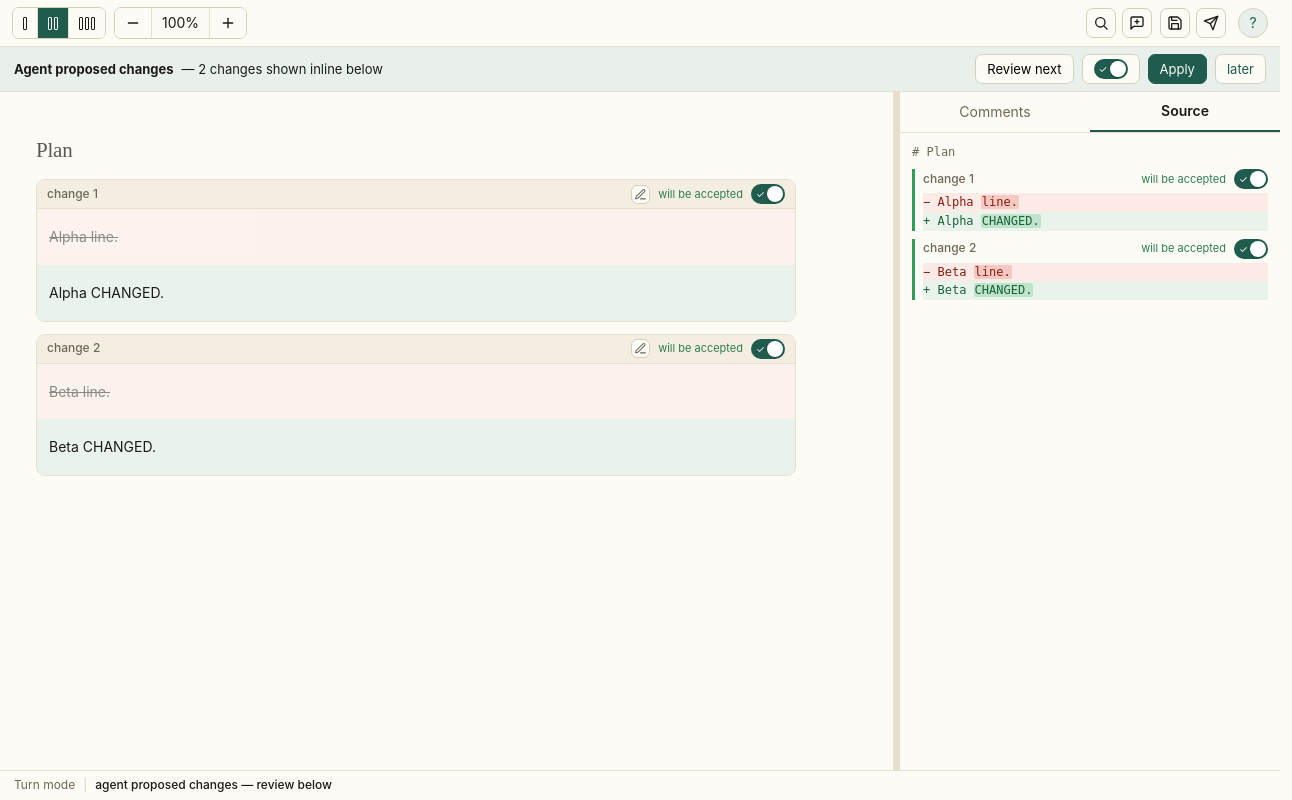
Test: App review diff controls (memory-backed) › a per-hunk reject toggle then Apply keeps only the accepted hunks
The image size is (1292, 800).
Step 1. Click the switch named "accept change 1" → [768, 194], box [751, 184, 785, 204]
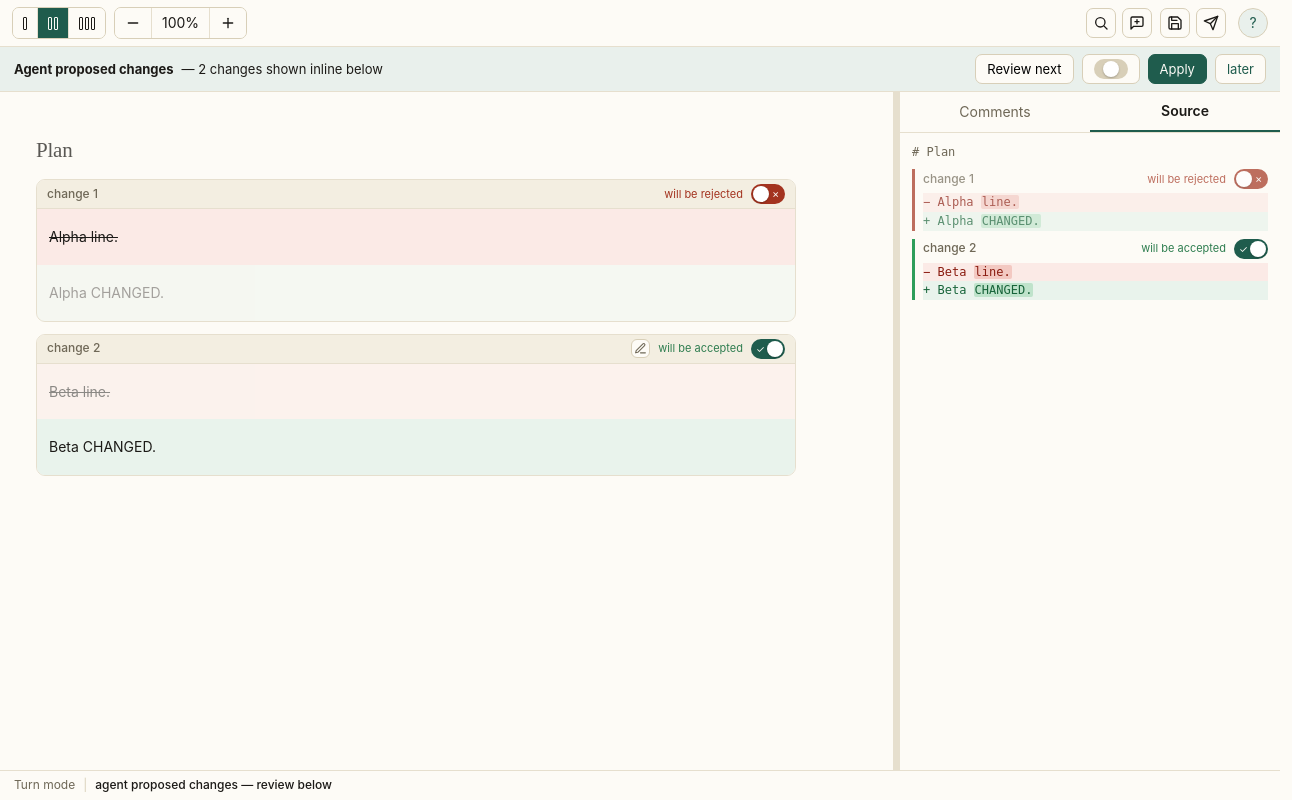
Now the switch named "accept change 1" is not checked, box [751, 184, 785, 204]
Step 2. Click the button "Apply" → [1177, 69], box [1148, 54, 1207, 84]
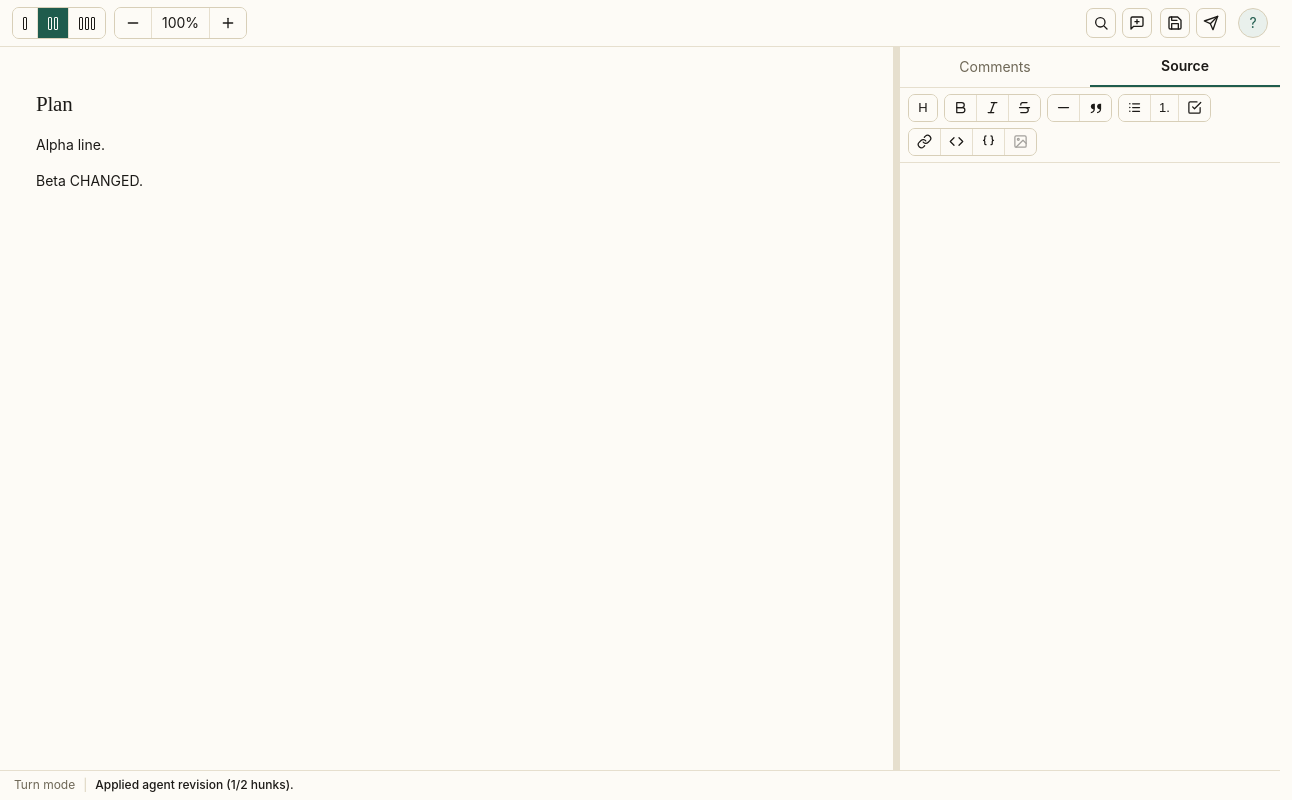
Expected: the text "Alpha line." is shown, [36, 136, 105, 153]
Now the text "Agent proposed changes" is gone
Now the text "Beta line." is gone
